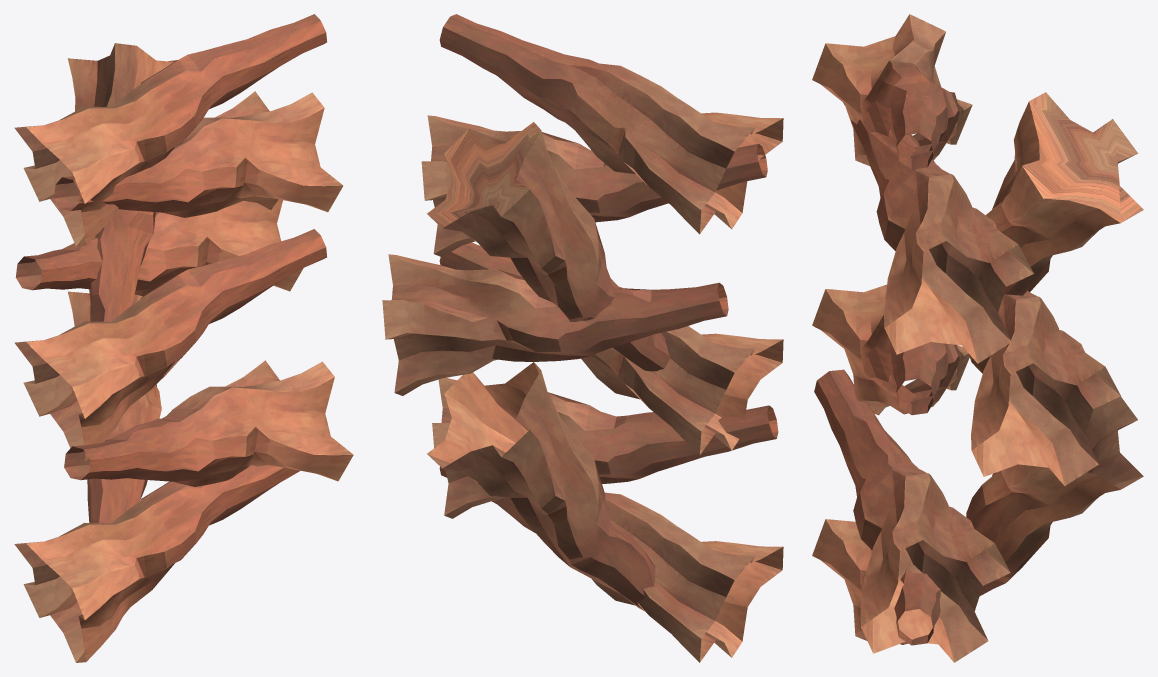
The model's file is trunkwall_map.fbx.
3 views of the same model, side by side, from view 1: azimuth 30°, elevation 25°; view 2: azimuth 150°, elevation 25°; view 3: azimuth 270°, elevation 25° (orthographic). The views are drawn at different scales.
Visible parts, largest first — view 1: trunk4, trunk7, trunk2, trunk1, trunk6, trunk5, trunk8, trunk3; view 2: trunk7, trunk5, trunk3, trunk8, trunk1, trunk4, trunk2, trunk6; view 3: trunk2, trunk6, trunk5, trunk8, trunk7, trunk3, trunk4, trunk1.
Part boxes in pixels (x1,y1,x2,y2): trunk4: (14, 229, 326, 460); trunk7: (14, 14, 326, 246); trunk2: (64, 360, 353, 486); trunk1: (14, 465, 300, 662); trunk6: (54, 91, 343, 217); trunk5: (15, 199, 303, 296); trunk8: (67, 43, 177, 321); trunk3: (68, 291, 179, 523); trunk7: (439, 14, 783, 234); trunk5: (382, 254, 728, 395); trunk3: (427, 362, 655, 610); trunk8: (427, 122, 669, 371); trunk1: (439, 466, 783, 662); trunk4: (439, 242, 783, 455); trunk2: (432, 378, 778, 518); trunk6: (421, 115, 767, 256); trunk2: (814, 369, 1010, 662); trunk6: (843, 102, 1033, 363); trunk5: (969, 290, 1120, 485); trunk8: (986, 92, 1143, 295); trunk7: (812, 14, 972, 169); trunk3: (900, 396, 1143, 644); trunk4: (812, 284, 969, 415); trunk1: (812, 519, 940, 645).
Bounding box in the file's own units: 4.64 × 8.3 × 3.81.
